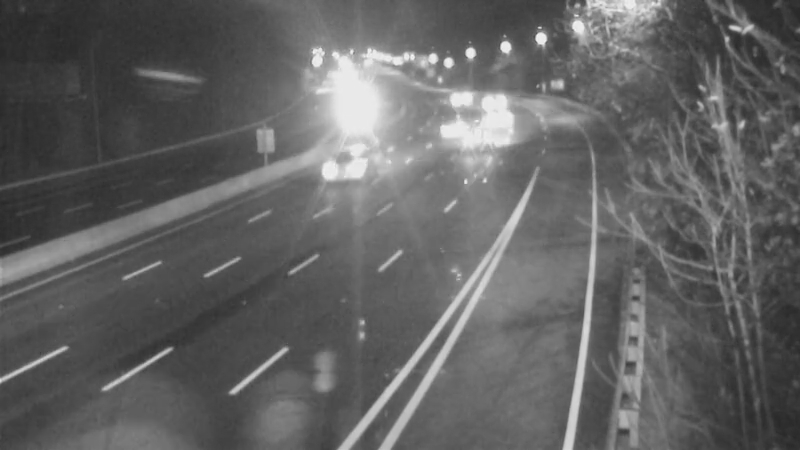vehicle: (316, 131, 396, 211), (431, 72, 481, 122), (461, 79, 511, 129), (473, 94, 523, 144), (431, 98, 481, 148), (457, 121, 507, 171), (328, 92, 378, 142)
